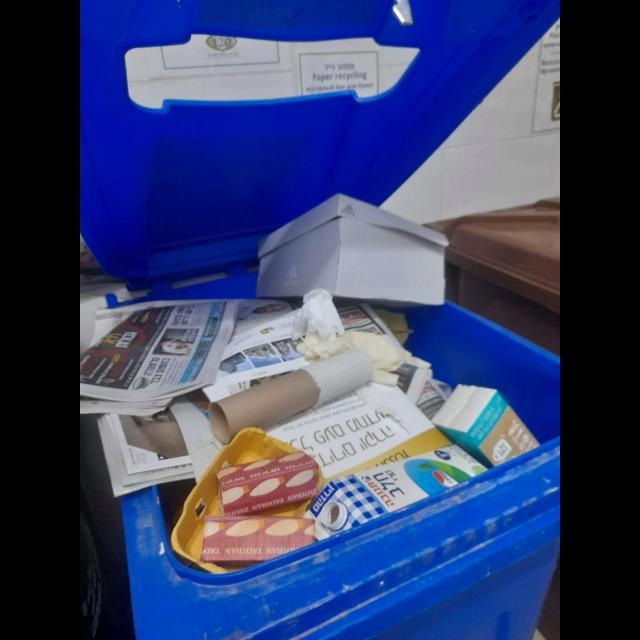cardboard: (256, 193, 450, 308), (209, 348, 373, 444), (431, 384, 540, 469), (217, 452, 318, 515), (201, 516, 316, 570)
paper: (80, 299, 288, 416), (297, 289, 402, 372)
